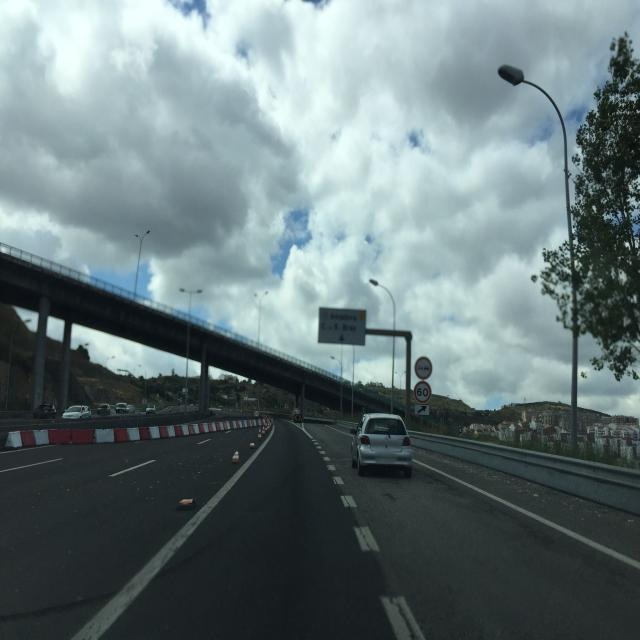car: (349, 412, 414, 478), (61, 404, 91, 420), (32, 402, 58, 418), (114, 402, 136, 415), (96, 402, 112, 416), (144, 405, 157, 415)
